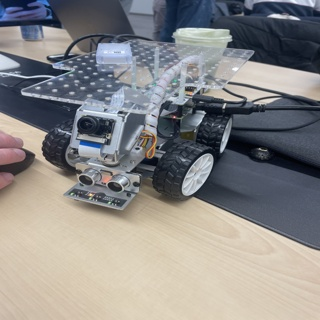vehicle: (19, 38, 255, 206)
